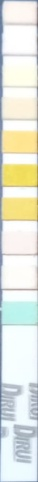color 1: (2, 1, 37, 25)
color 10: (2, 302, 38, 323)
color 2: (1, 32, 38, 55)
color 3: (1, 66, 38, 85)
color 4: (1, 98, 38, 119)
color 5: (1, 131, 38, 152)
color 6: (1, 164, 38, 186)
color 7: (1, 197, 37, 219)
color 8: (2, 233, 38, 253)
color 9: (2, 267, 38, 288)
